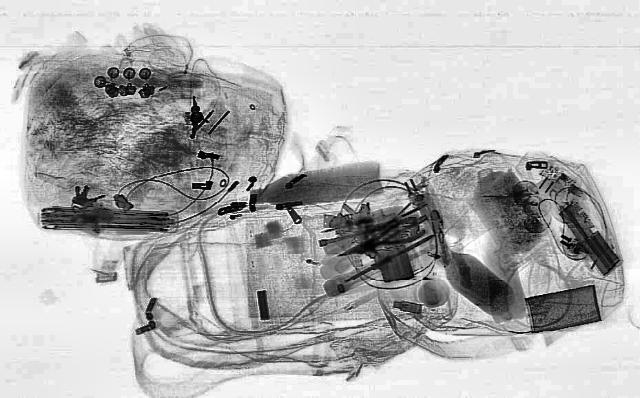Pliers: (325, 215, 433, 265)
